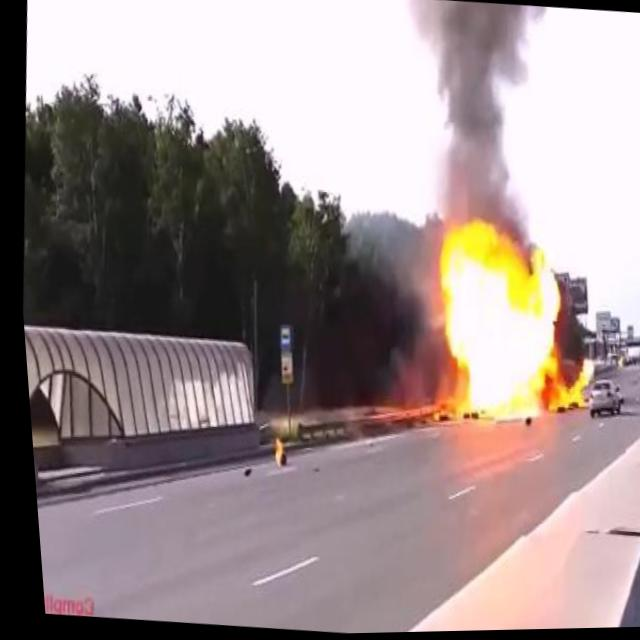fire: (405, 209, 604, 432), (264, 437, 279, 470)
